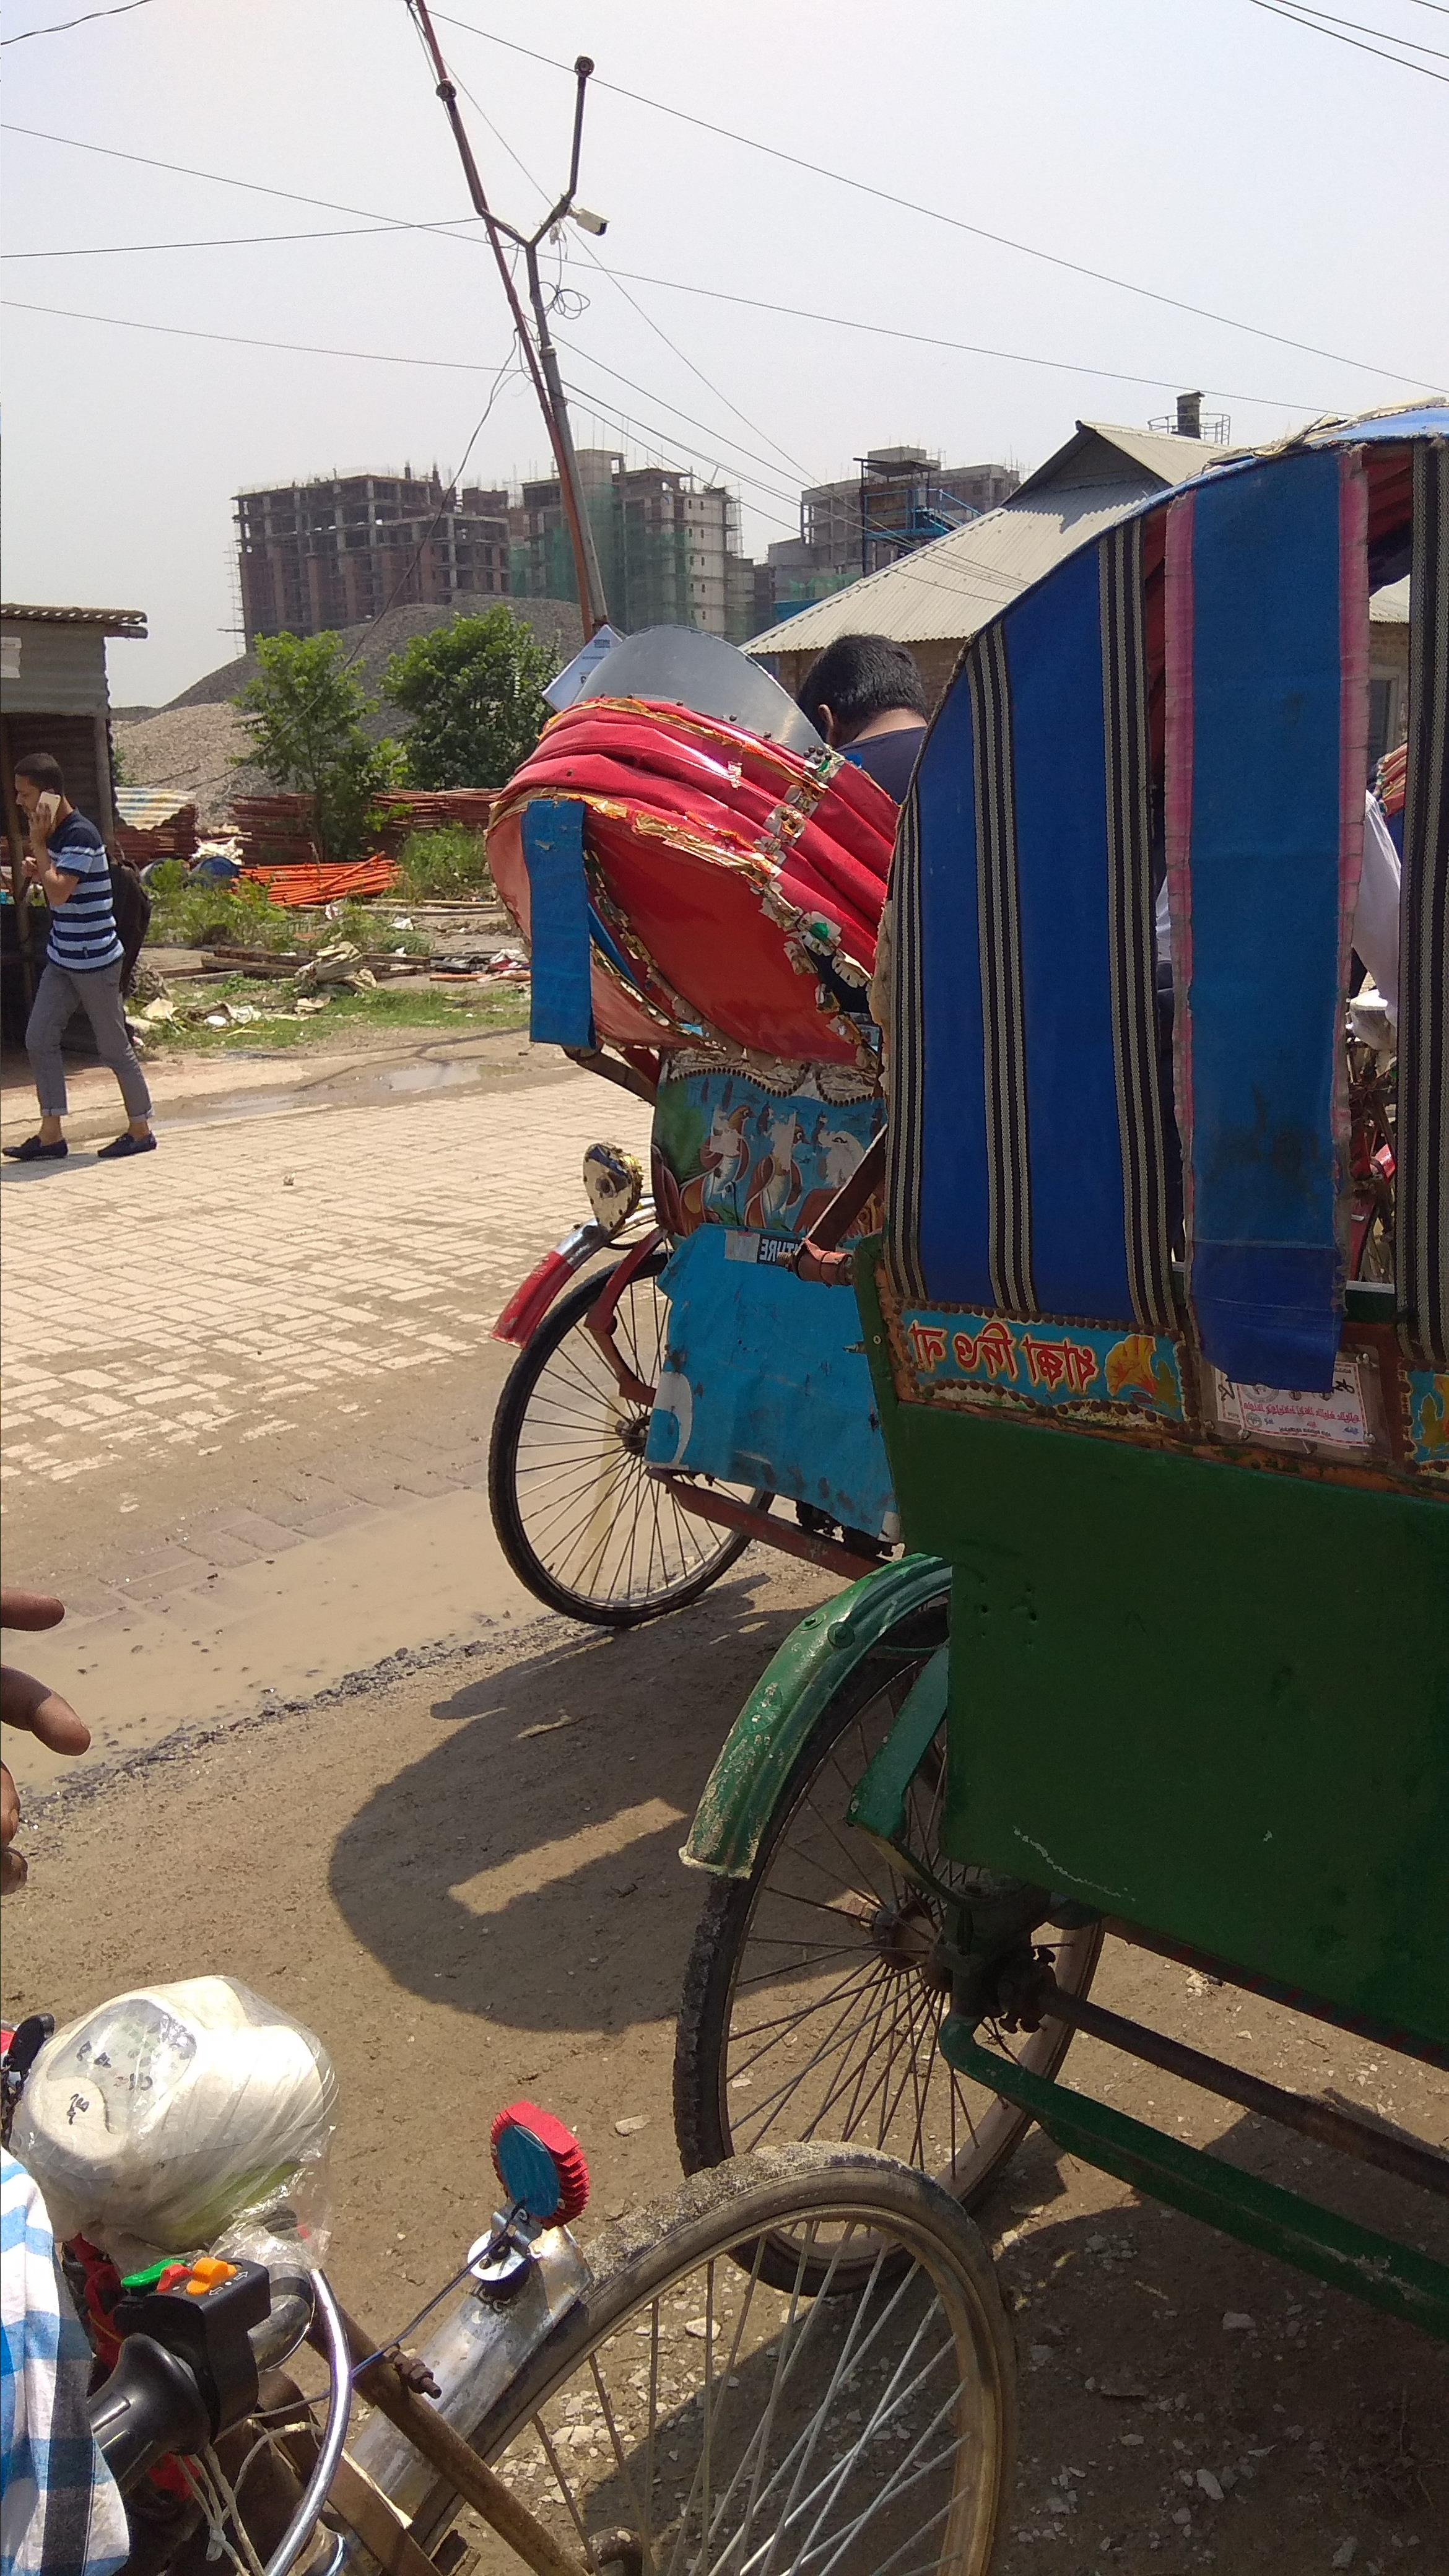Rickshaw: (840, 380, 1424, 2038), (479, 612, 938, 1621)
